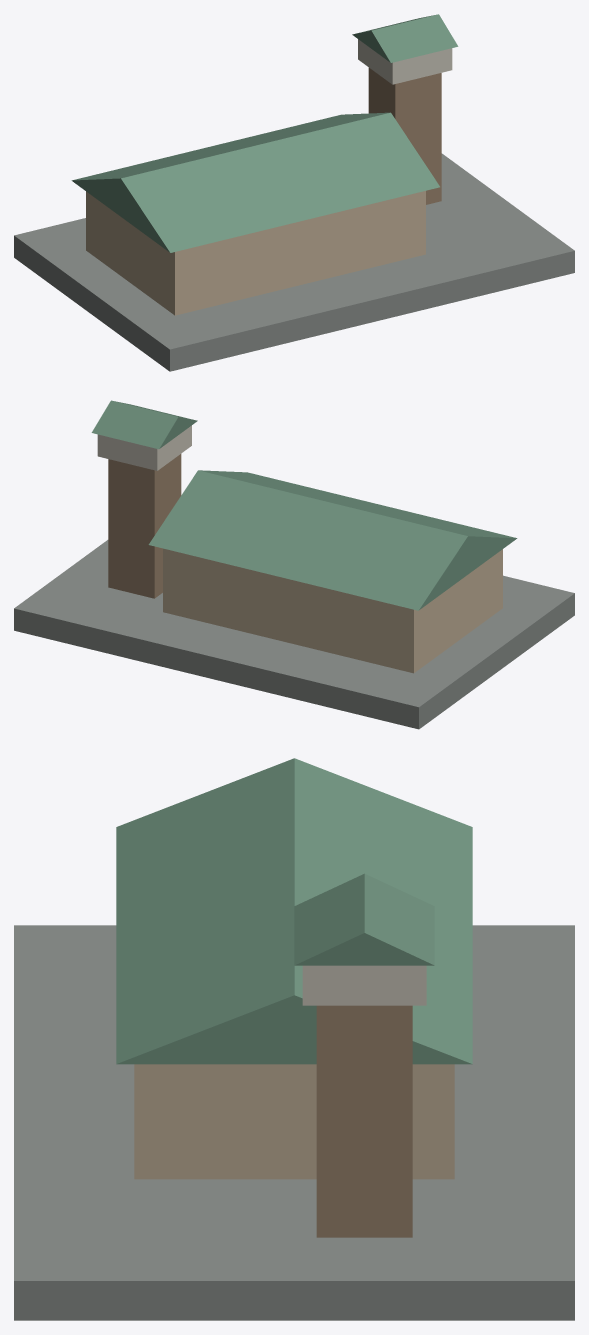
File: lm_130_trung_tam_du_khach_va_tram_kiem_lam_vuon_quoc_gia_bidoup_nui_ba.glb
3 renders of one model, top to bottom at view 1: azimuth 30°, elevation 25°; view 2: azimuth 150°, elevation 25°; view 3: azimuth 270°, elevation 25°, orthographic. The views are drawn at different scales.
Parts seen in each view (by area): view 1: lm_130; view 2: lm_130; view 3: lm_130.
Boxes of the visible parts, x1=… form: lm_130: x1=14, y1=14, x2=574, y2=371; lm_130: x1=14, y1=400, x2=574, y2=729; lm_130: x1=14, y1=758, x2=574, y2=1320.
Bounding box in the file's own units: 42 × 19.5 × 28.
